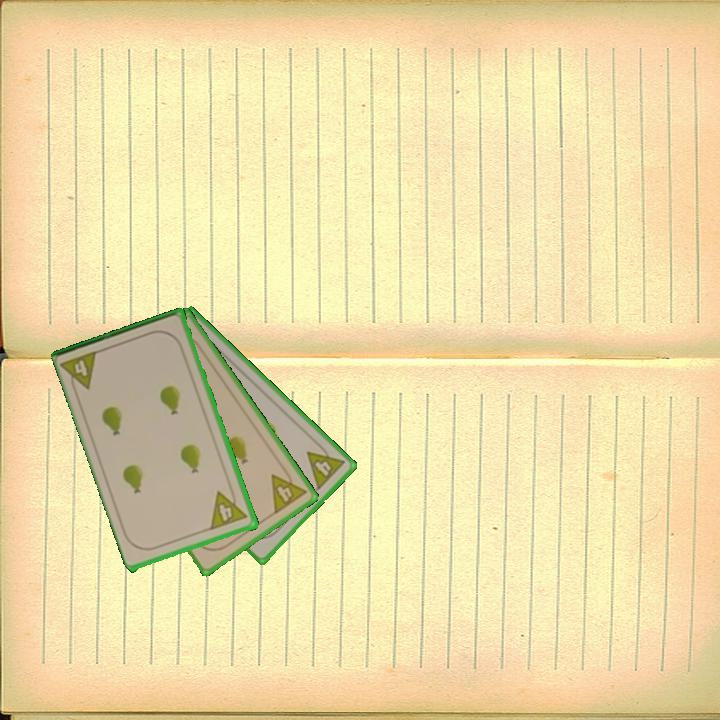4p: (303, 438, 348, 493), (268, 463, 310, 517), (59, 347, 102, 397), (207, 485, 251, 532)
